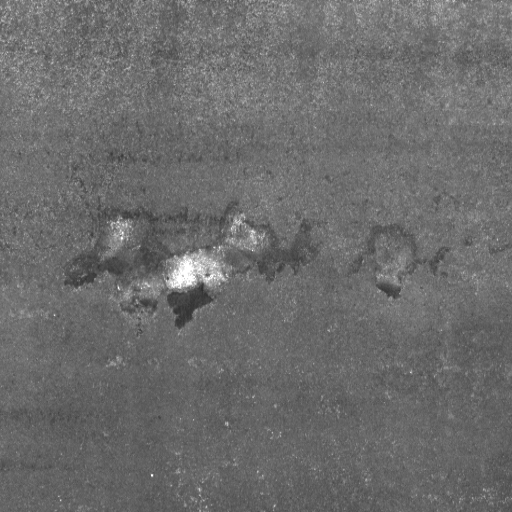qiaopi: (75, 202, 319, 314)
